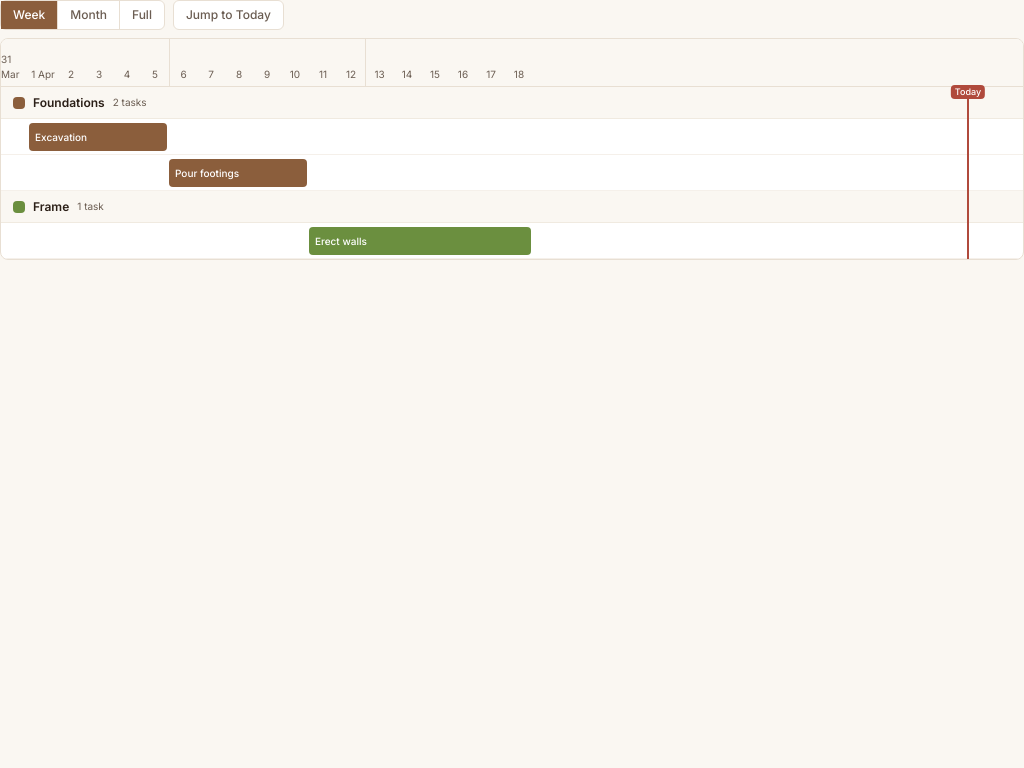
Test: GanttChart click → detail panel — AC-GE-3 › opens task detail panel when a task bar is clicked (mousedown+mouseup without drag)
# Simulate a click: mousedown then immediate mouseup without moving
What coordinates should you click on to do the following:
click the element with test id "gantt-bar-task-1"
I would click on:
 (98, 137)
Its box is [29, 123, 167, 151].
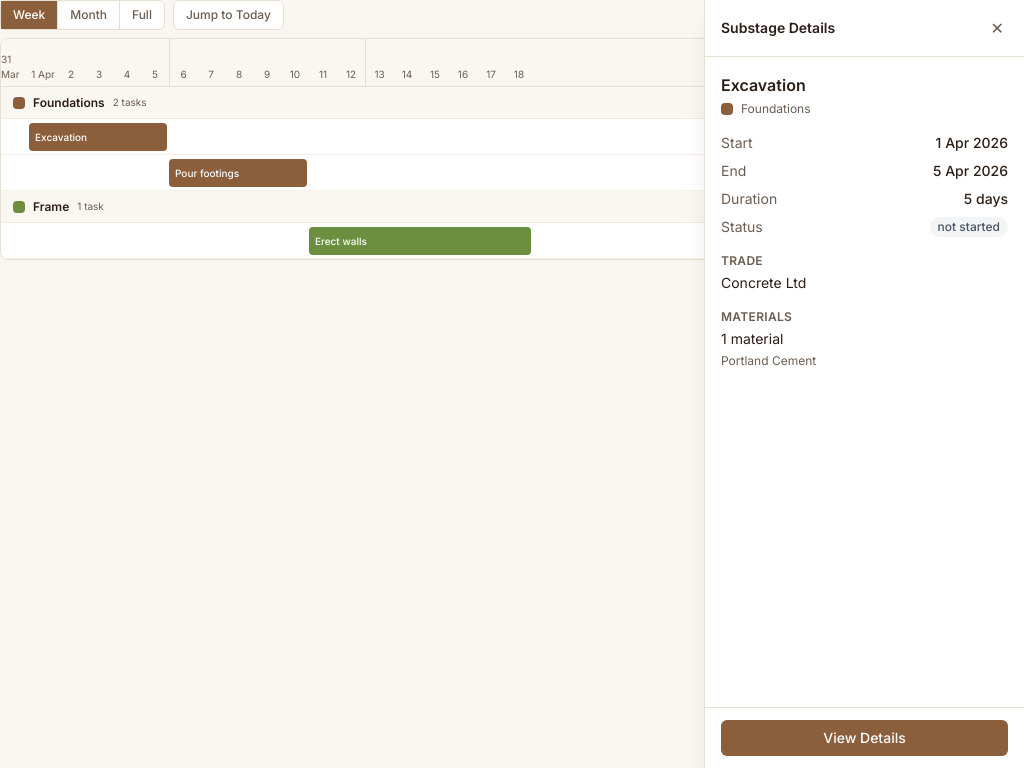
Check: the dialog with test id "task-detail-panel" is shown, box [704, 0, 1023, 767]
Check: the heading with test id "task-detail-name" reads "Excavation", box [721, 75, 806, 95]
